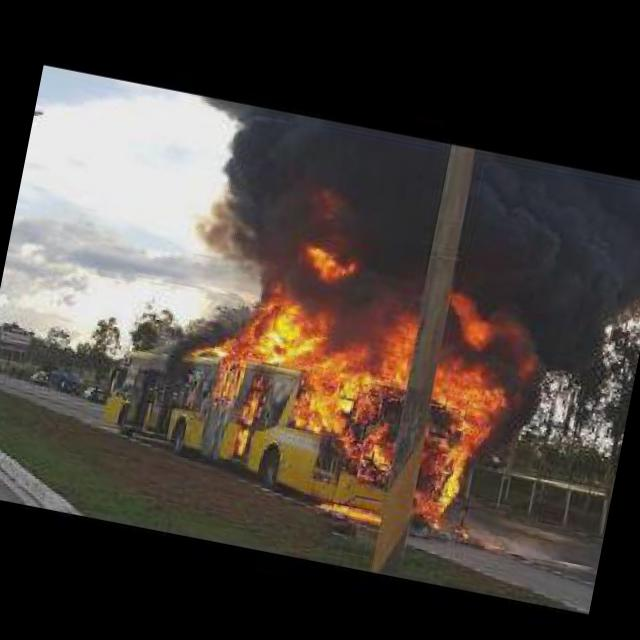fire: (165, 214, 550, 547)
smoke: (166, 94, 640, 404)
